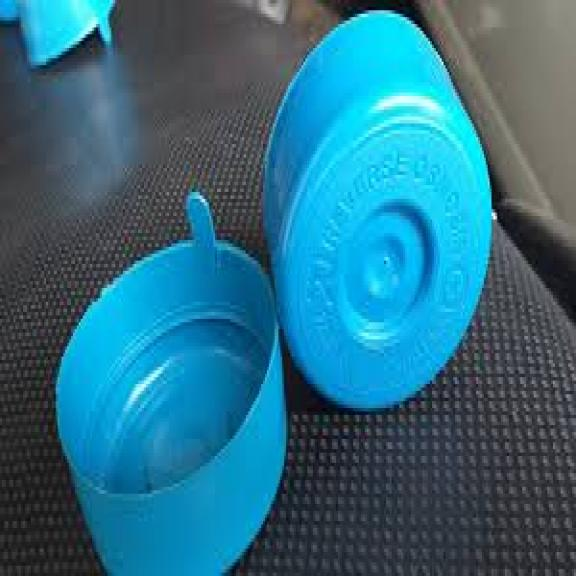Plastik: (261, 10, 495, 415), (54, 192, 288, 576)
